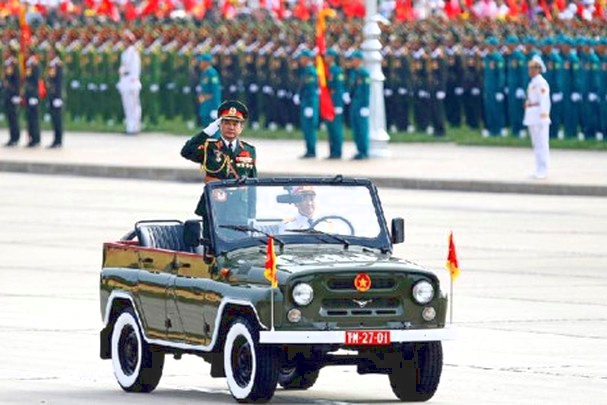plate: (346, 328, 393, 346)
